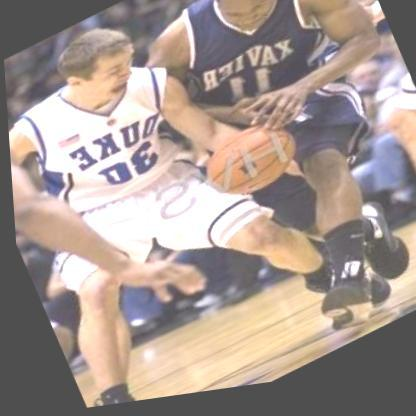basketball: (199, 115, 300, 212)
